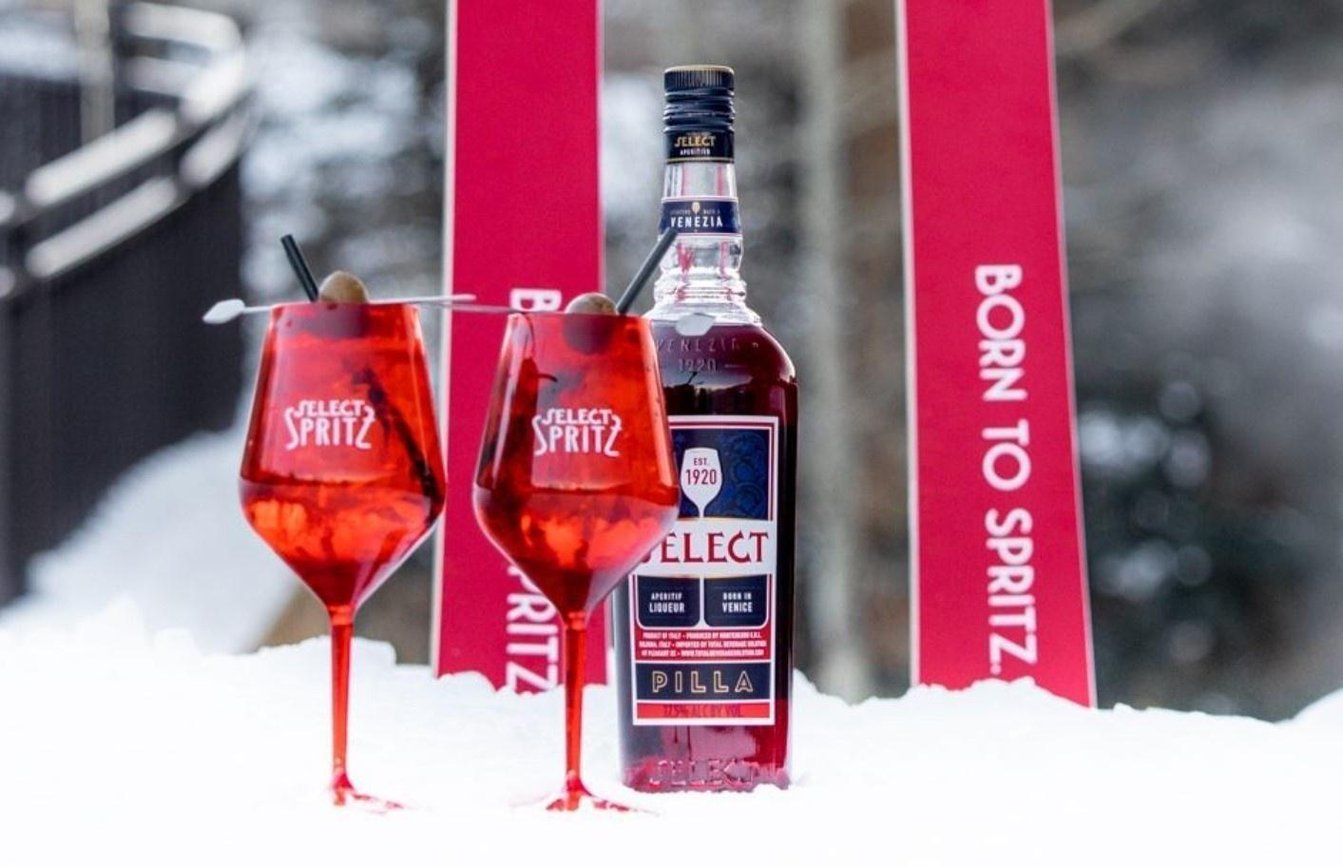bottle-glass: (609, 58, 805, 801)
glass-wine: (235, 297, 448, 829), (470, 309, 685, 813)
